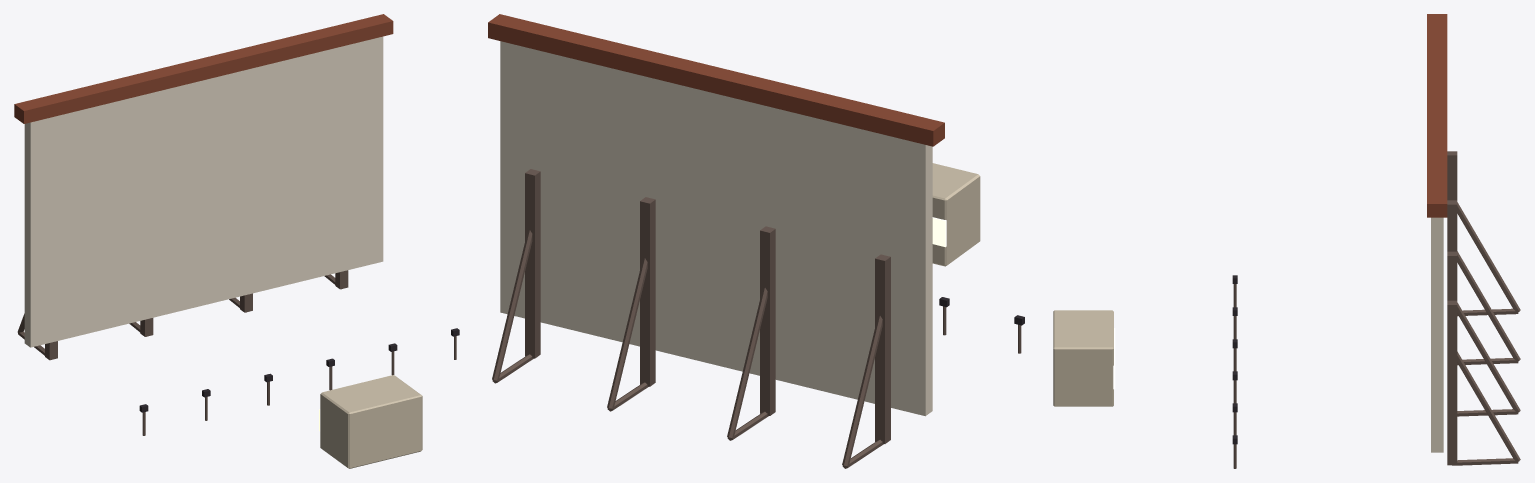
Rendered from drive_in.glb.
3 renders of one model, left to right at view 1: azimuth 30°, elevation 25°; view 2: azimuth 150°, elevation 25°; view 3: azimuth 270°, elevation 25°, orthographic. The views are drawn at different scales.
Parts seen in each view (by area): view 1: drive_in; view 2: drive_in; view 3: drive_in.
Boxes of the visible parts, bbox=[...] form: drive_in: bbox=[14, 14, 459, 468]; drive_in: bbox=[488, 14, 1024, 468]; drive_in: bbox=[1053, 14, 1520, 468].
Bounding box in the file's own units: 17.8 × 12.32 × 18.51.
